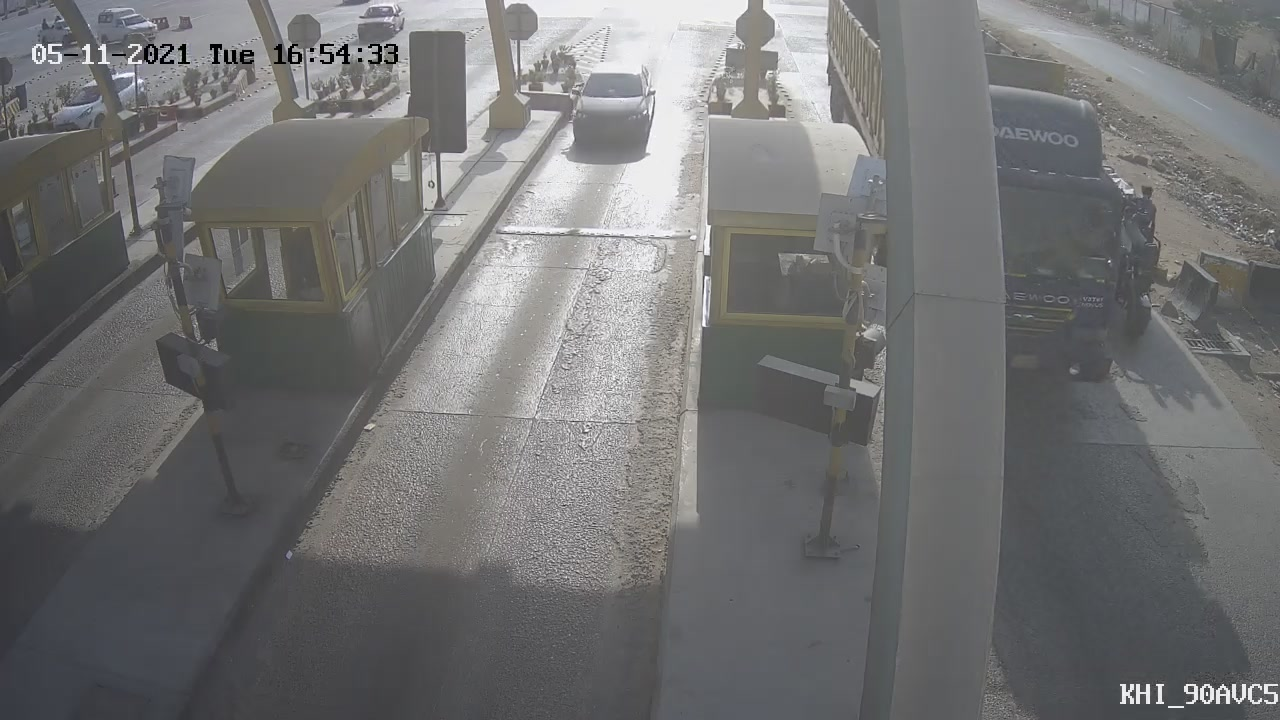F1: (553, 47, 668, 172)
